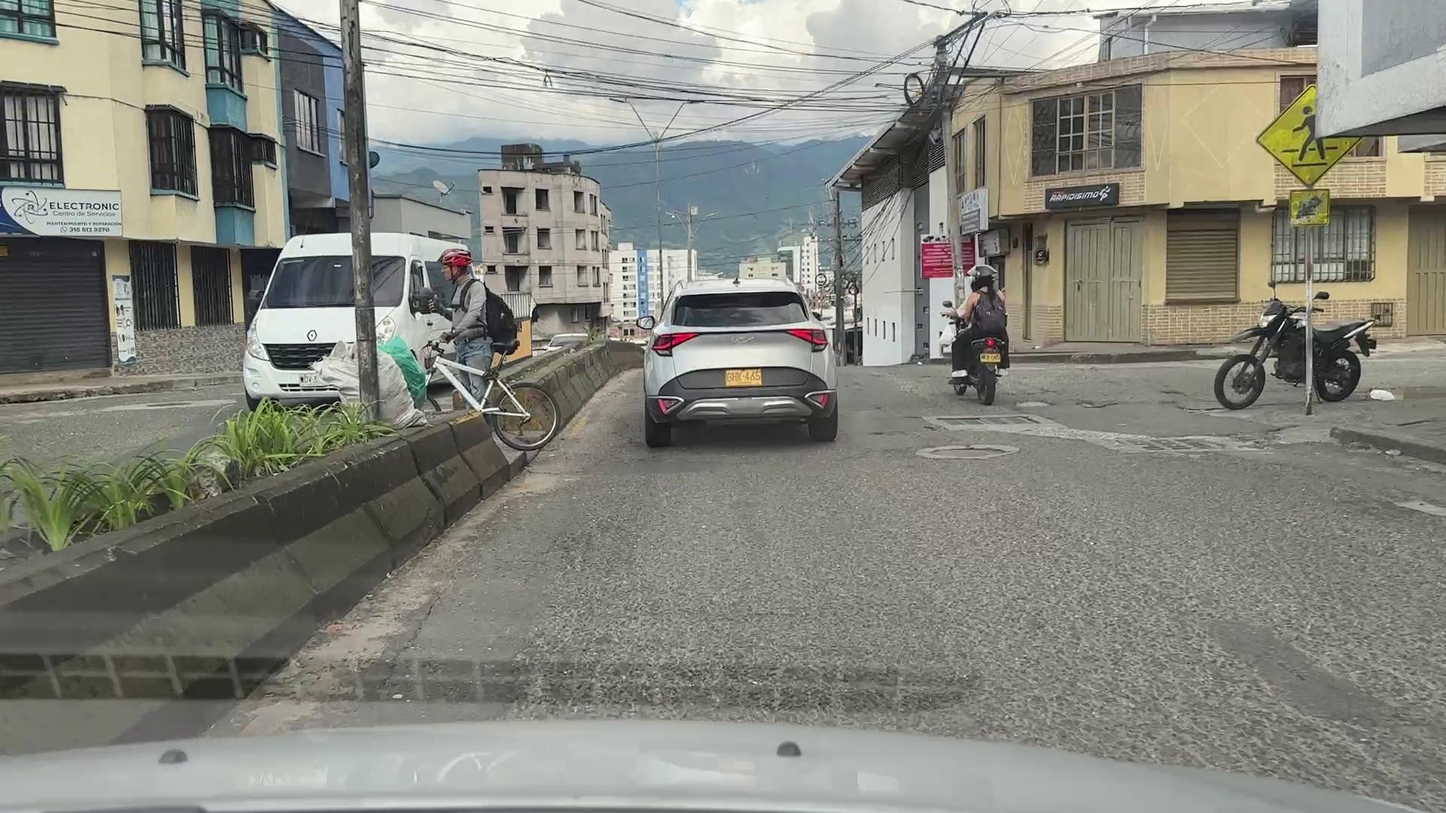bache: (1394, 501, 1445, 518), (1177, 407, 1224, 413), (1015, 400, 1054, 407), (1079, 402, 1116, 408)
registro: (930, 448, 1005, 457)
rejilla: (1118, 438, 1225, 453), (938, 416, 1041, 425)
